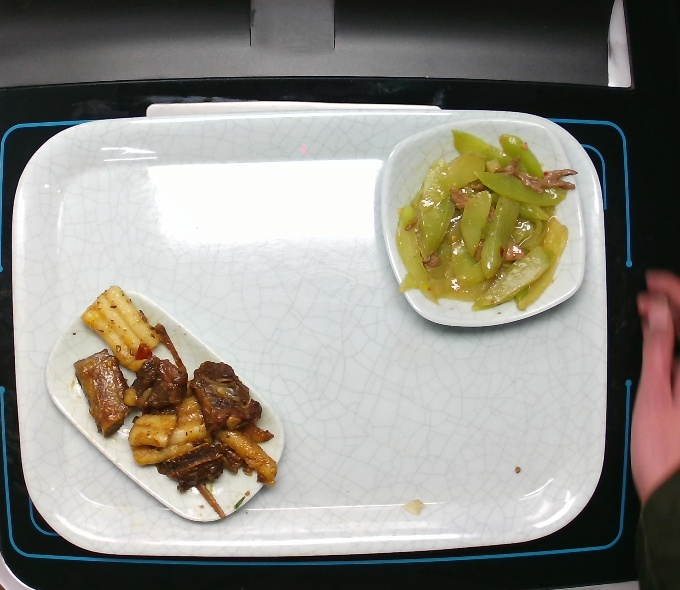wcq-NianGaoZaiPai: (70, 283, 278, 524)
wcq-WoSun: (394, 124, 585, 318)
